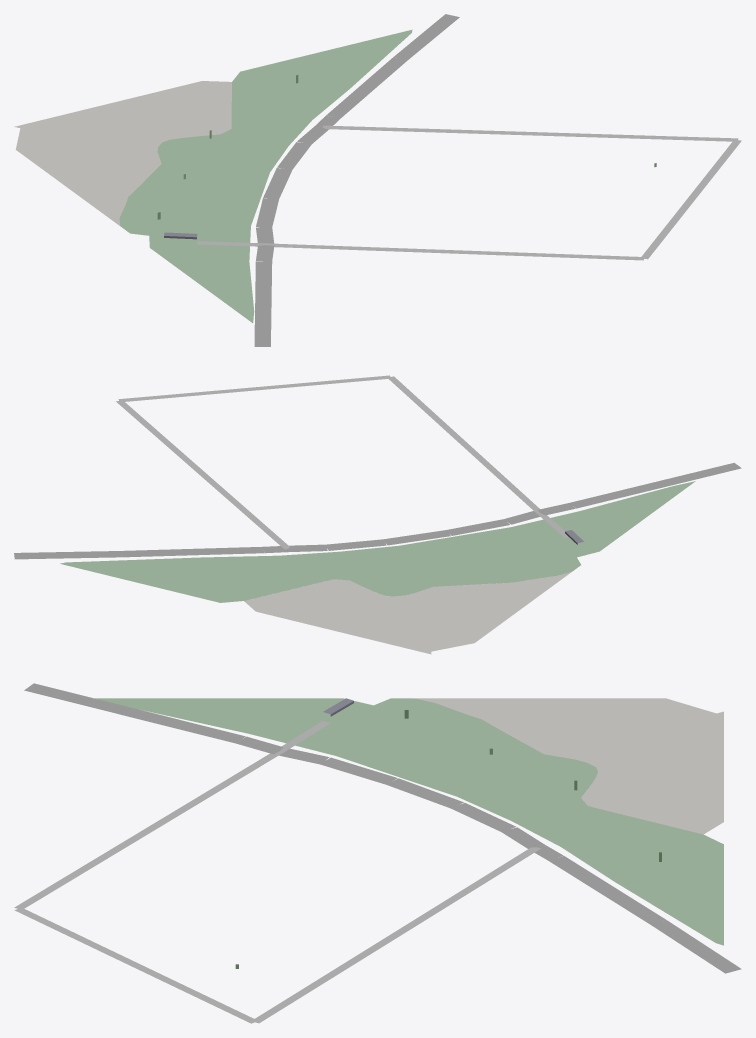
3 views of the same model, one above another, from view 1: azimuth 30°, elevation 25°; view 2: azimuth 150°, elevation 25°; view 3: azimuth 270°, elevation 25° (orthographic). The views are drawn at different scales.
Bounding box in the file's own units: 569 × 8.01 × 516.
